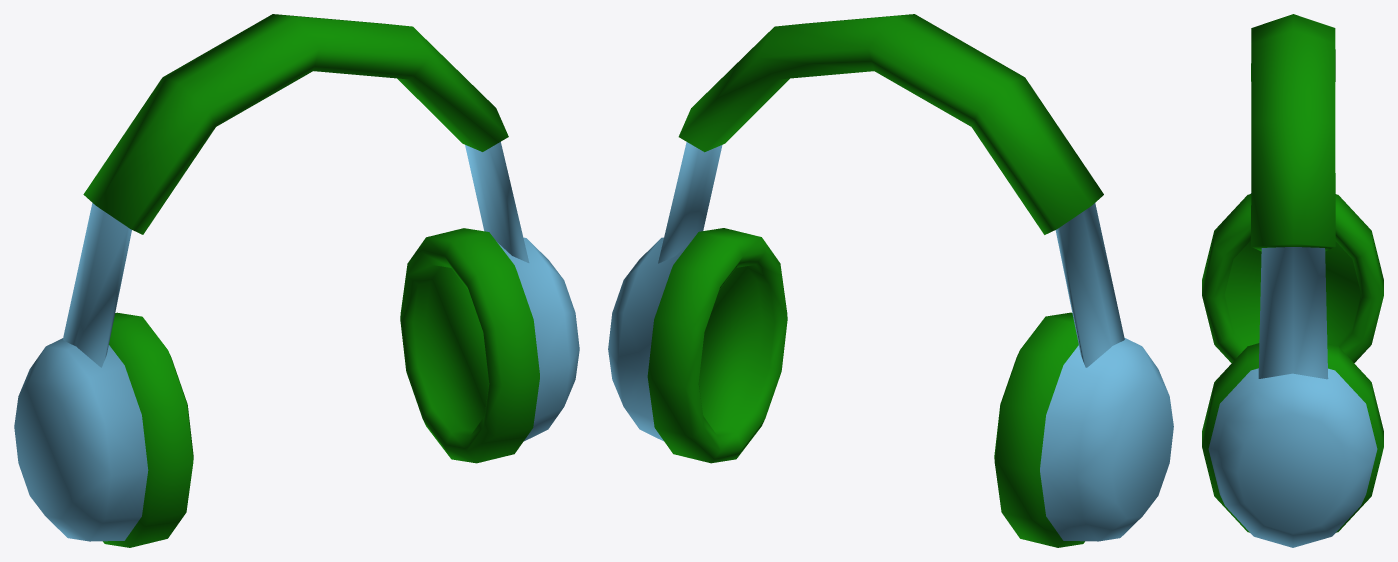
The model's file is Headphones.fbx.
The picture shows the model from 3 angles, left to right: view 1: azimuth 30°, elevation 25°; view 2: azimuth 150°, elevation 25°; view 3: azimuth 270°, elevation 25°; orthographic projection. The views are drawn at different scales.
Visible parts, largest first — view 1: Headphones; view 2: Headphones; view 3: Headphones.
Part boxes in pixels (bbox=[...]): Headphones: bbox=[14, 14, 579, 547]; Headphones: bbox=[608, 14, 1173, 547]; Headphones: bbox=[1202, 14, 1383, 547].
Bounding box in the file's own units: 0.2662 × 0.2428 × 0.093.
